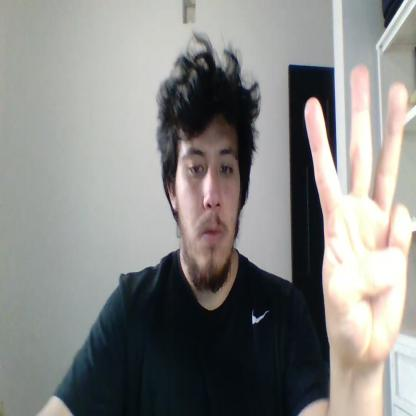W: (304, 65, 413, 366)
